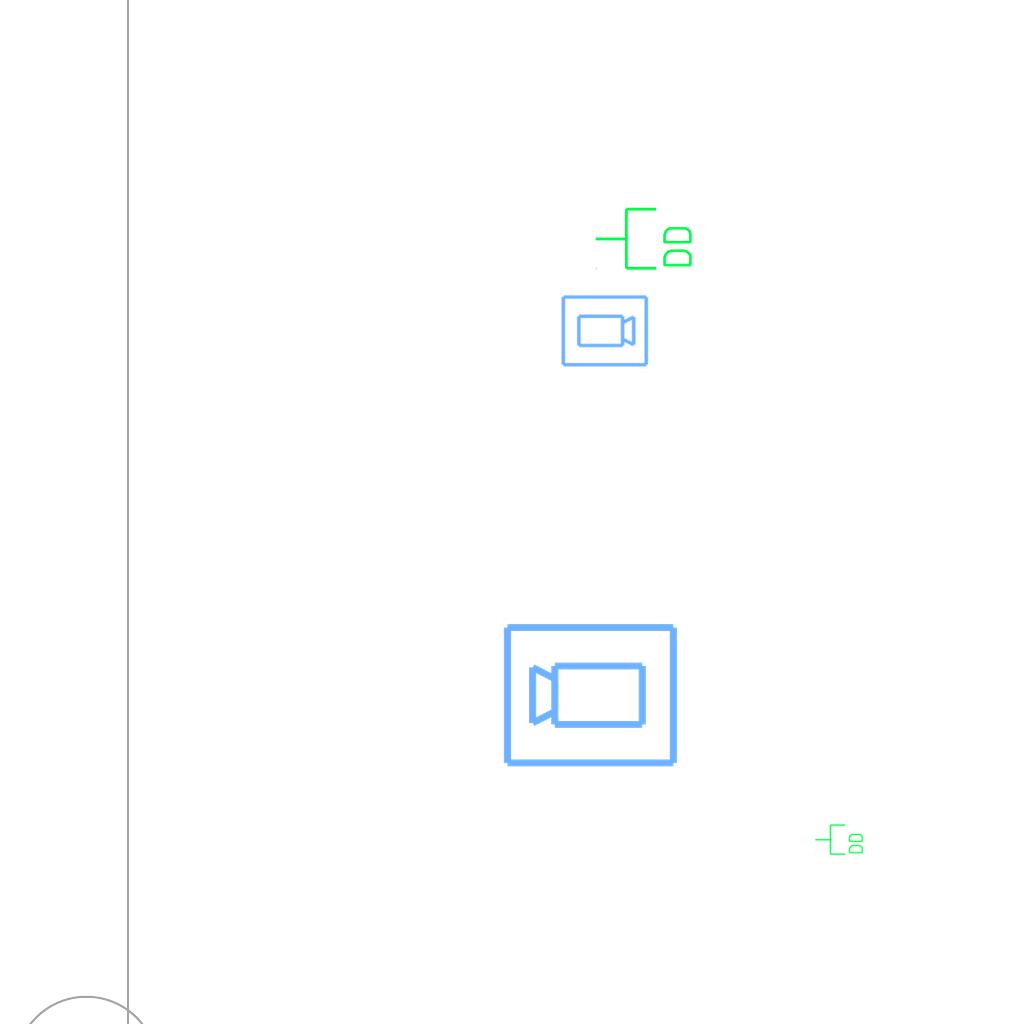Datenanschluss_zweifach: (593, 205, 696, 274), (814, 823, 865, 857)
KFO_Kamera_mit_Festobjektiv: (500, 617, 682, 771), (559, 293, 650, 370)
